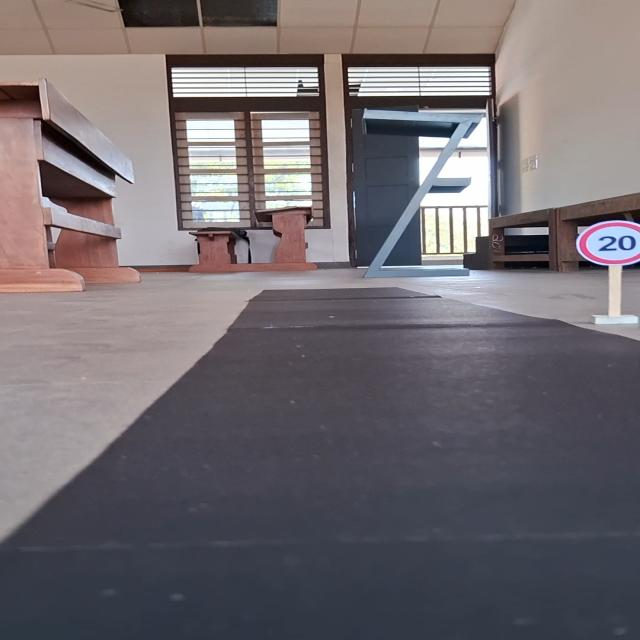Speed20: (573, 216, 640, 268)
